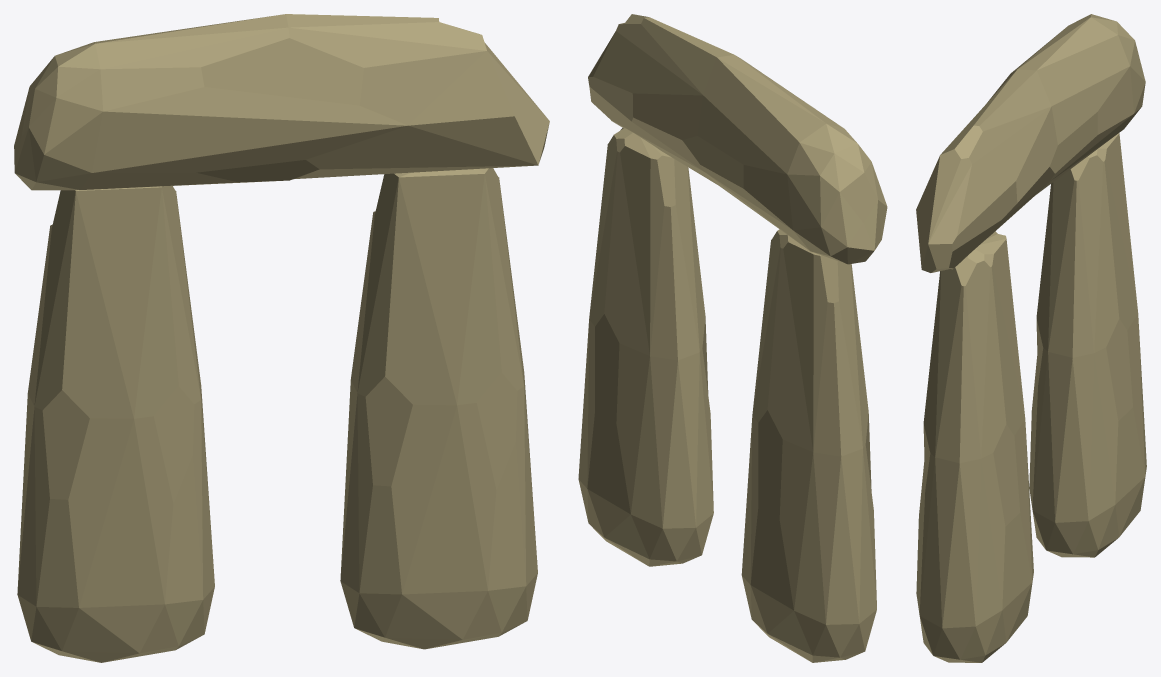
File: stonehenge-1.fbx
3 renders of one model, left to right at view 1: azimuth 30°, elevation 25°; view 2: azimuth 150°, elevation 25°; view 3: azimuth 270°, elevation 25°, orthographic. The views are drawn at different scales.
Visible parts, largest first — view 1: Icosphere.003, Icosphere.004, Icosphere.005; view 2: Icosphere.003, Icosphere.004, Icosphere.005; view 3: Icosphere.003, Icosphere.004, Icosphere.005.
Boxes of the visible parts, bbox=[...] form: Icosphere.003: bbox=[340, 168, 537, 649]; Icosphere.004: bbox=[17, 186, 214, 662]; Icosphere.005: bbox=[14, 14, 549, 190]; Icosphere.003: bbox=[578, 128, 713, 566]; Icosphere.004: bbox=[741, 229, 876, 662]; Icosphere.005: bbox=[588, 14, 887, 264]; Icosphere.003: bbox=[916, 231, 1033, 662]; Icosphere.004: bbox=[1029, 133, 1146, 557]; Icosphere.005: bbox=[916, 14, 1145, 272].
Bounding box in the file's own units: 1053 × 1470 × 585.
